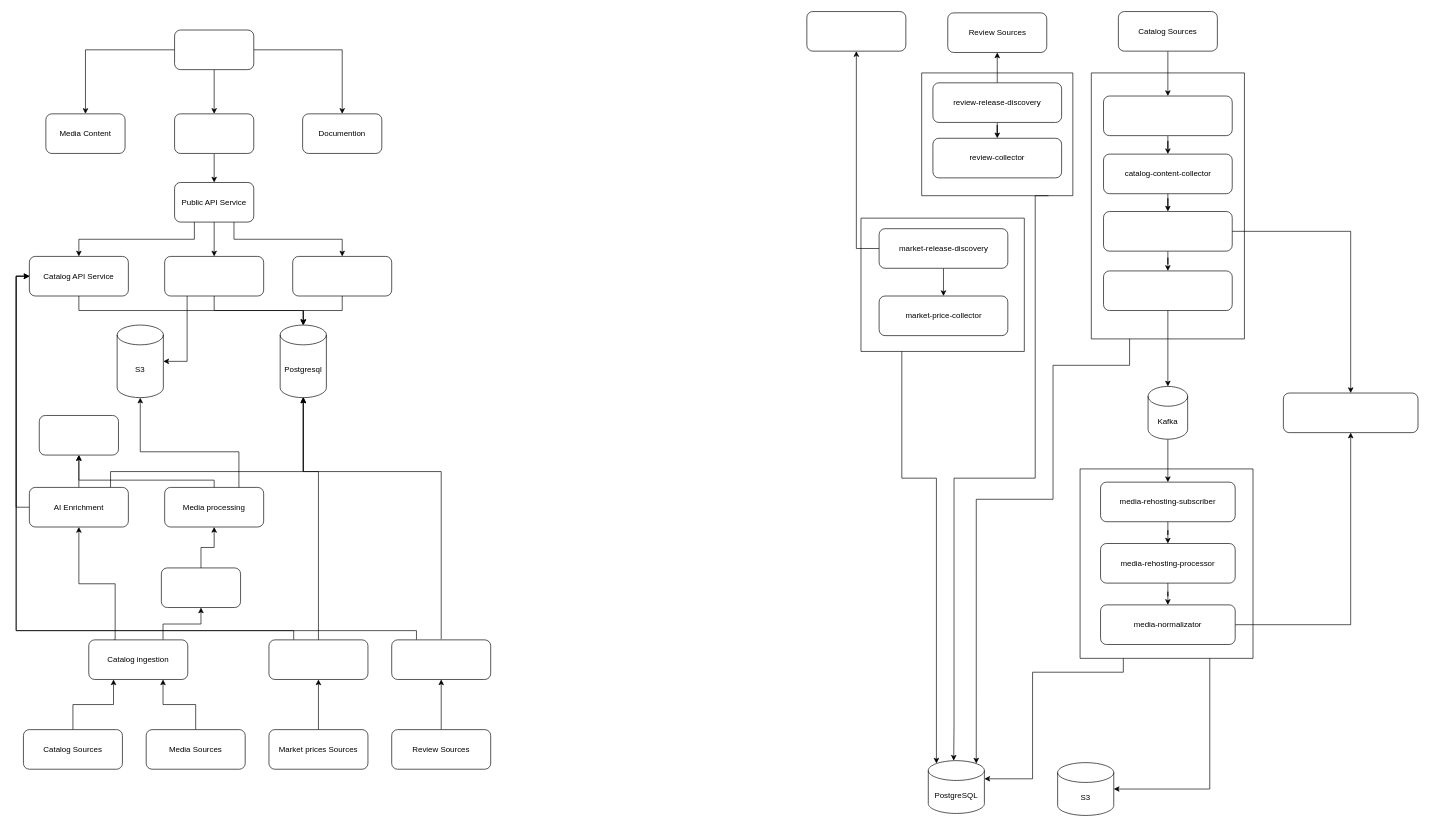
This 1430x827 diagram has some shape labels left out. The box of each missing label's shape, as (x1, y1, x2, y2) in pixels:
AI Orchestrator: (39, 415, 118, 455)
ai-orchestrator: (1283, 392, 1418, 433)
catalog-data-enricher: (1103, 211, 1232, 251)
catalog-importer: (1103, 270, 1232, 311)
catalog-source-discovery: (1103, 95, 1232, 136)
Event bus: (161, 567, 241, 608)
Market API Service: (292, 256, 392, 296)
Market ingestion: (268, 639, 368, 679)
Market Sources: (806, 11, 906, 51)
Media API Service: (164, 256, 264, 296)
Review ingestion: (391, 639, 491, 679)
UI: (174, 113, 254, 153)
User: (174, 29, 254, 70)
